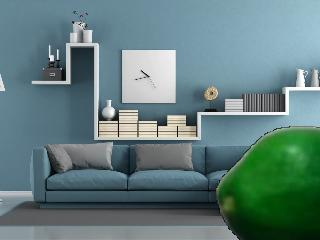lime: (218, 125, 320, 240)
